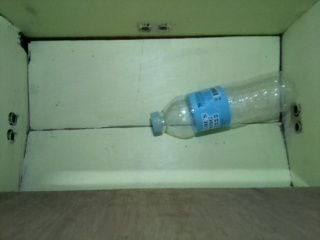bottle: (149, 69, 297, 139)
